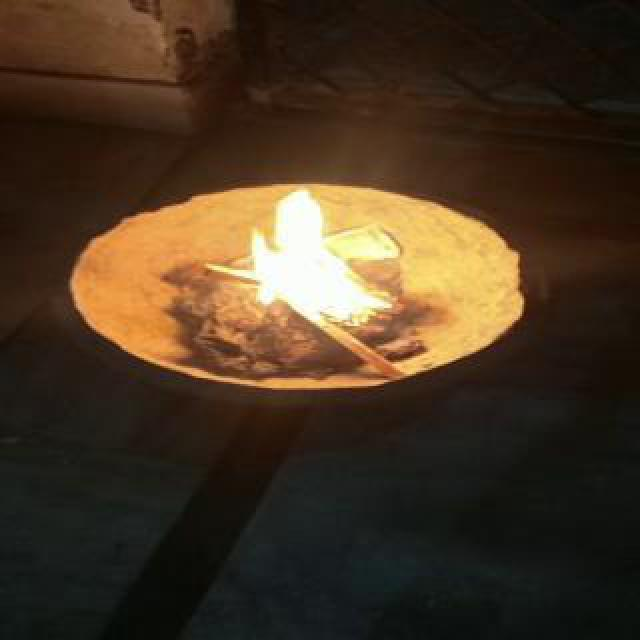Fire: (242, 182, 422, 316)
